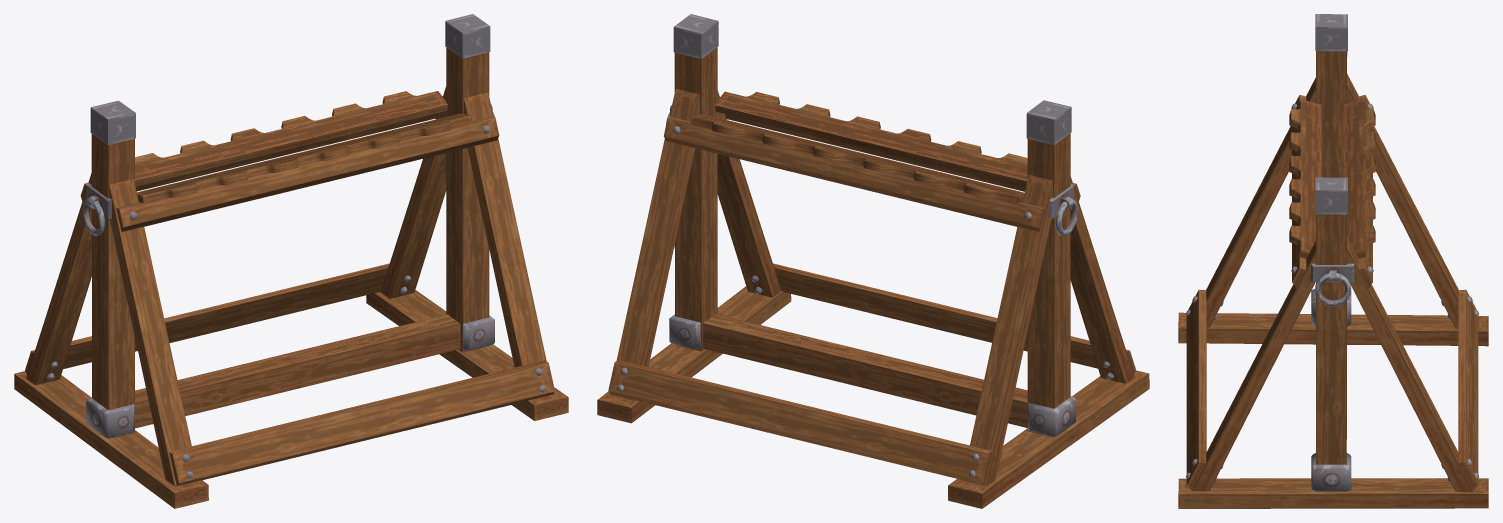
The model's file is weaponstand.glb.
The picture shows the model from 3 angles, left to right: view 1: azimuth 30°, elevation 25°; view 2: azimuth 150°, elevation 25°; view 3: azimuth 270°, elevation 25°; orthographic projection. The views are drawn at different scales.
Parts seen in each view (by area): view 1: WeaponStand; view 2: WeaponStand; view 3: WeaponStand.
Boxes of the visible parts, x1,y1,x2,y2 form: WeaponStand: (14, 14, 568, 508); WeaponStand: (597, 14, 1149, 508); WeaponStand: (1178, 14, 1488, 508).
Size of the model in its own units: 1.39 by 1.11 by 0.9831.
Materials: 2 (2 with a texture image).
